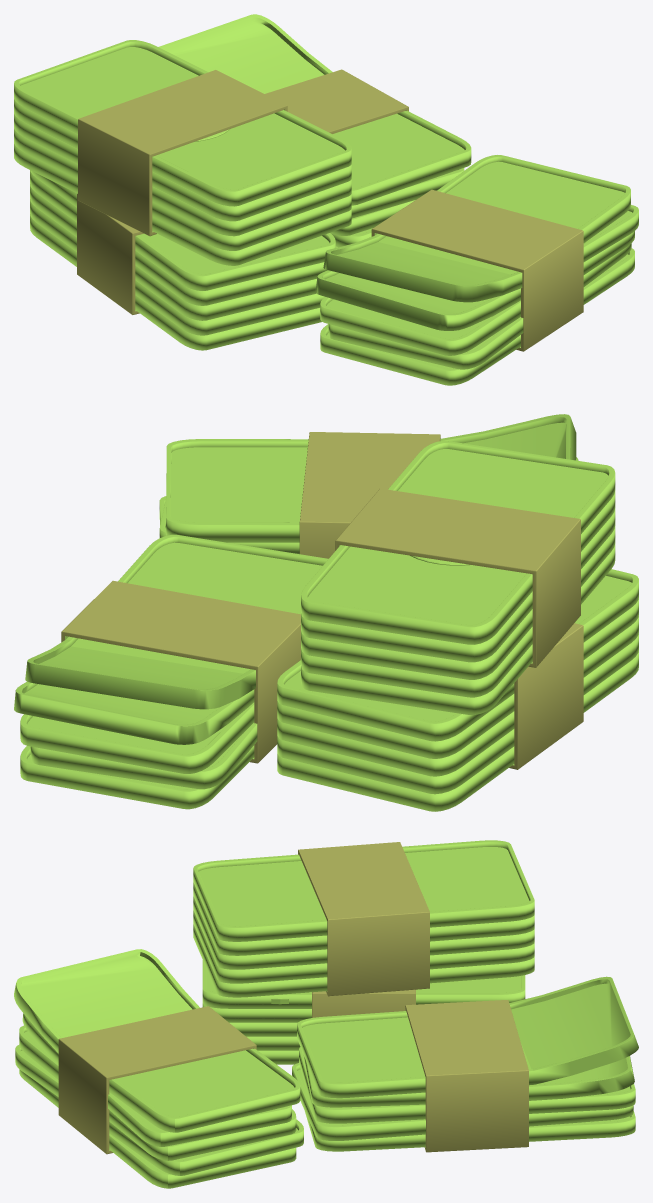
File: Money.fbx
The picture shows the model from 3 angles, top to bottom: view 1: azimuth 30°, elevation 25°; view 2: azimuth 150°, elevation 25°; view 3: azimuth 270°, elevation 25°; orthographic projection. The views are drawn at different scales.
Visible parts, largest first — view 1: Cash Stack2; view 2: Cash Stack2; view 3: Cash Stack2.
Boxes of the visible parts, box(x1,y1,x2,y2) form: Cash Stack2: box(14, 14, 638, 385); Cash Stack2: box(14, 414, 638, 811); Cash Stack2: box(14, 840, 638, 1188).
Size of the model in its own units: 597 by 210 by 775.
